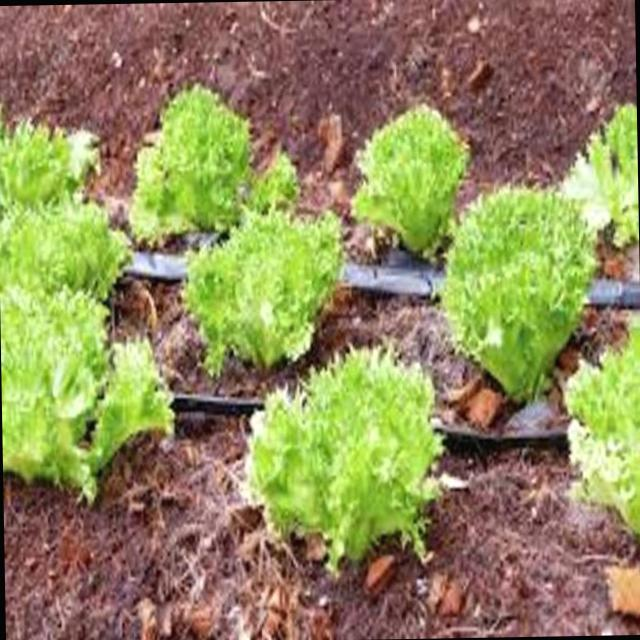Lettuce-Ready-to-Harvest: (249, 349, 440, 571), (0, 287, 173, 501), (442, 188, 595, 402), (185, 211, 343, 374), (131, 85, 249, 240), (353, 108, 467, 251), (568, 330, 640, 536), (0, 202, 130, 299), (560, 104, 639, 248), (0, 113, 96, 219)
